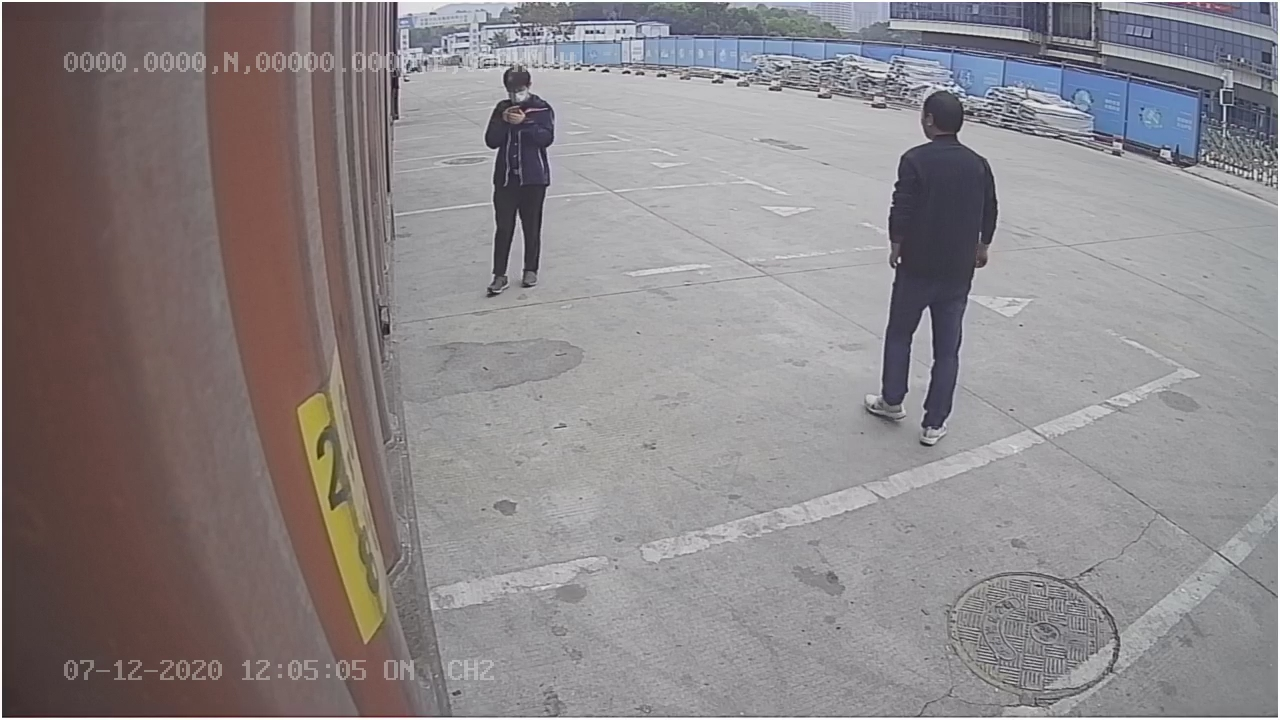person: (861, 88, 1000, 449), (475, 66, 563, 297)
